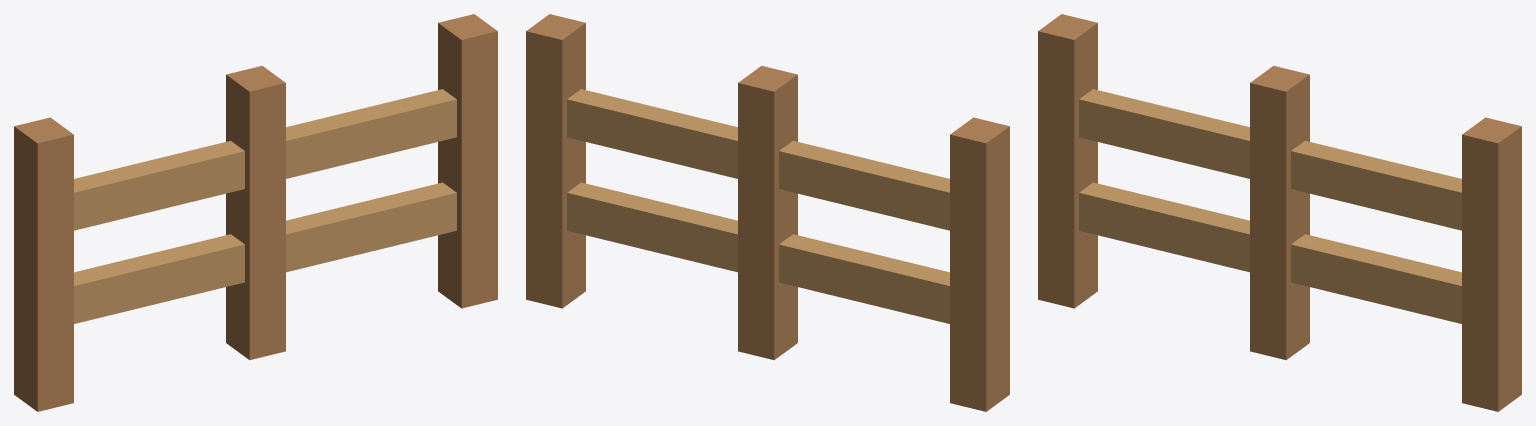
The model's file is fence.glb.
3 renders of one model, left to right at view 1: azimuth 30°, elevation 25°; view 2: azimuth 150°, elevation 25°; view 3: azimuth 330°, elevation 25°, orthographic.
Visible parts, largest first — view 1: Mesh_fence_wood, Mesh_fence_woodLight; view 2: Mesh_fence_wood, Mesh_fence_woodLight; view 3: Mesh_fence_wood, Mesh_fence_woodLight.
Boxes of the visible parts, left/top/right/bottom form: Mesh_fence_wood: left=14, top=14, right=497, bottom=411; Mesh_fence_woodLight: left=74, top=89, right=456, bottom=323; Mesh_fence_wood: left=526, top=14, right=1009, bottom=411; Mesh_fence_woodLight: left=567, top=89, right=949, bottom=323; Mesh_fence_wood: left=1038, top=14, right=1521, bottom=411; Mesh_fence_woodLight: left=1079, top=89, right=1461, bottom=323.
Size of the model in its own units: 0.825 by 0.46 by 0.073.
